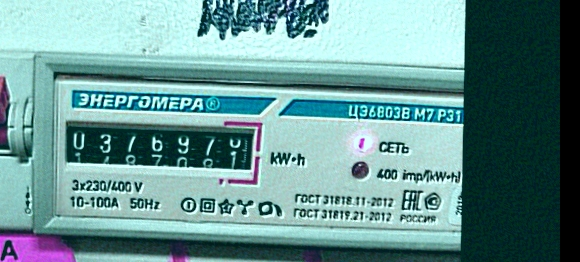0: (72, 128, 86, 151)
1: (228, 149, 240, 170)
3: (100, 133, 114, 154)
6: (151, 130, 166, 153)
7: (125, 130, 140, 155), (203, 134, 218, 157)
9: (177, 132, 191, 155)
screen: (57, 108, 267, 188)
